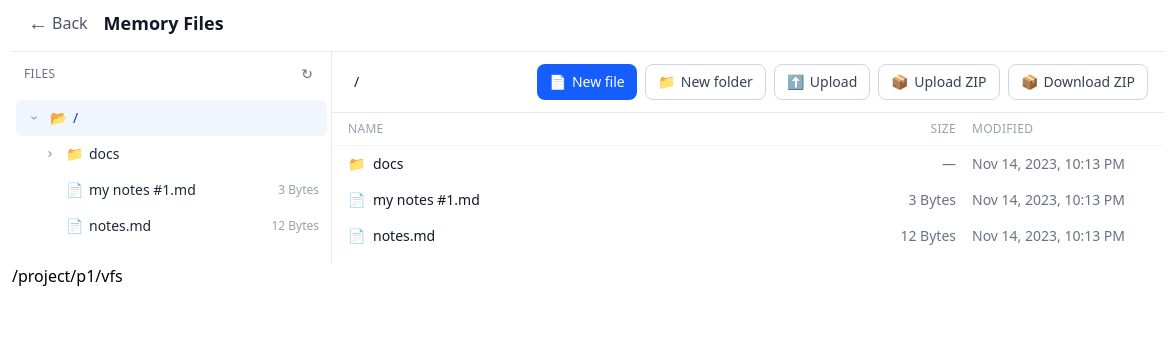
Scenario: VfsManagerView › URL follows the selection › opens a folder from the contents list and reveals it in the tree
The width and height of the screenshot is (1176, 340).
What coordinates should you click on to do the following:
click the button "📁 docs — Nov 14, 2023, 10:13 PM"
I would click on:
 (388, 164)
Its box is [332,146,1164,182].
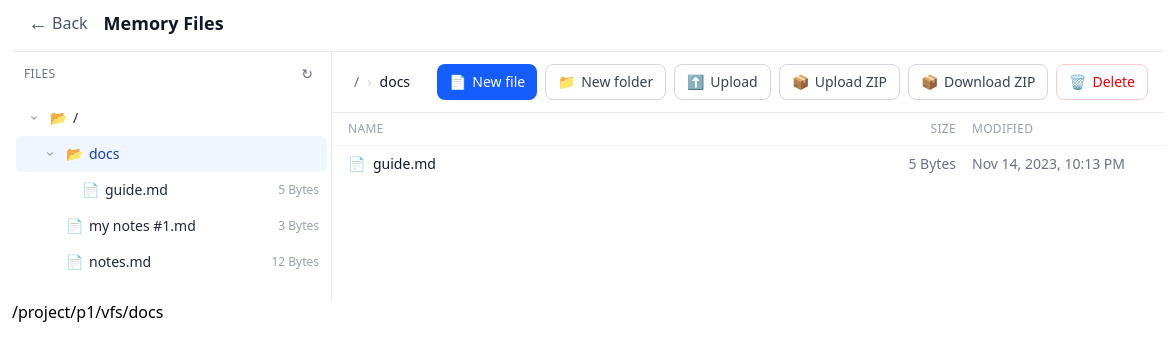
Check: the text with test id "location" reads "/project/p1/vfs/docs", box [12,301,163,323]
Check: the list item "📄 guide.md 5 Bytes" is shown, box [82,180,319,199]
